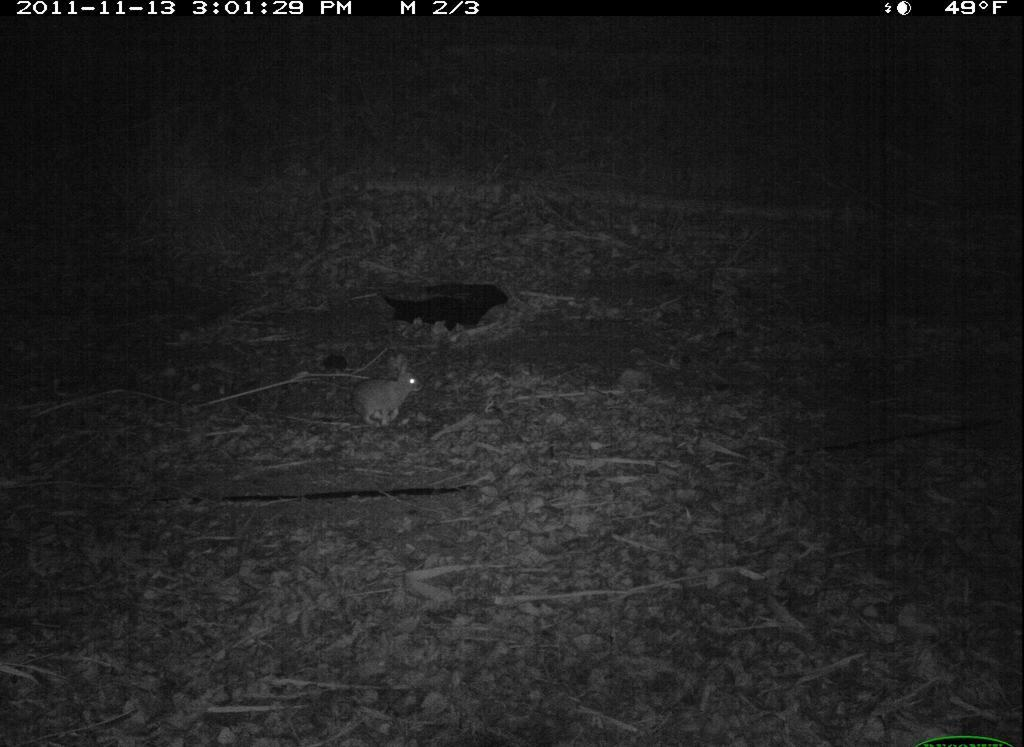rabbit: (327, 347, 447, 443)
